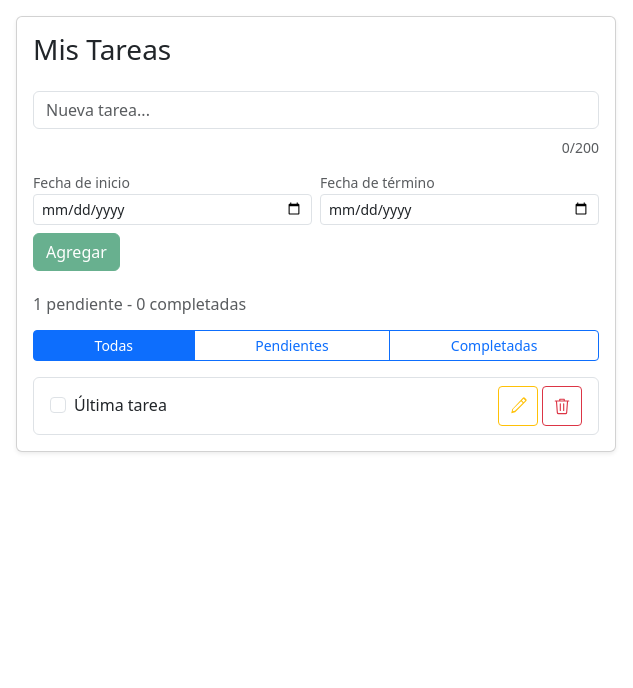
Test: adds "¡Todo al día!" badge when the last pending task is completed
What coordinates should you click on to do the following:
click the checkbox labelled "Última tarea"
I would click on:
 (58, 405)
Its box is top-left (50, 397), bottom-right (66, 413).
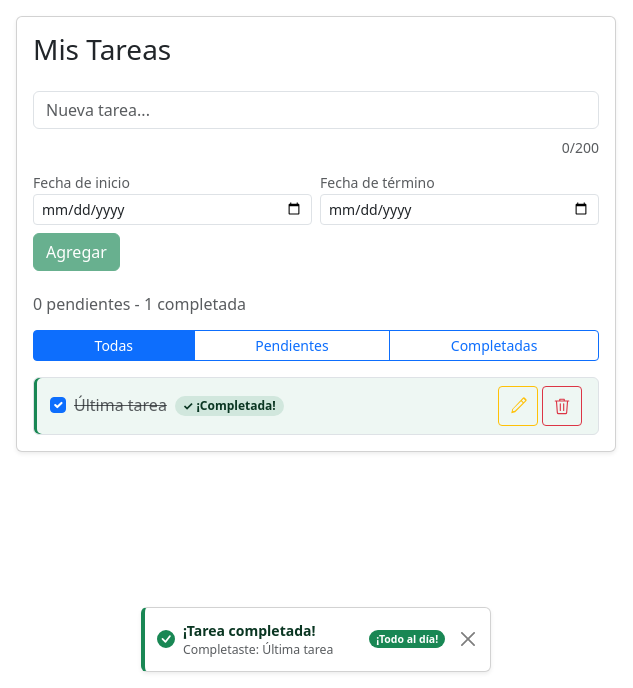
Now the message "Tarea completada" shows "¡Todo al día!", box top-left (376, 632), bottom-right (438, 646)
